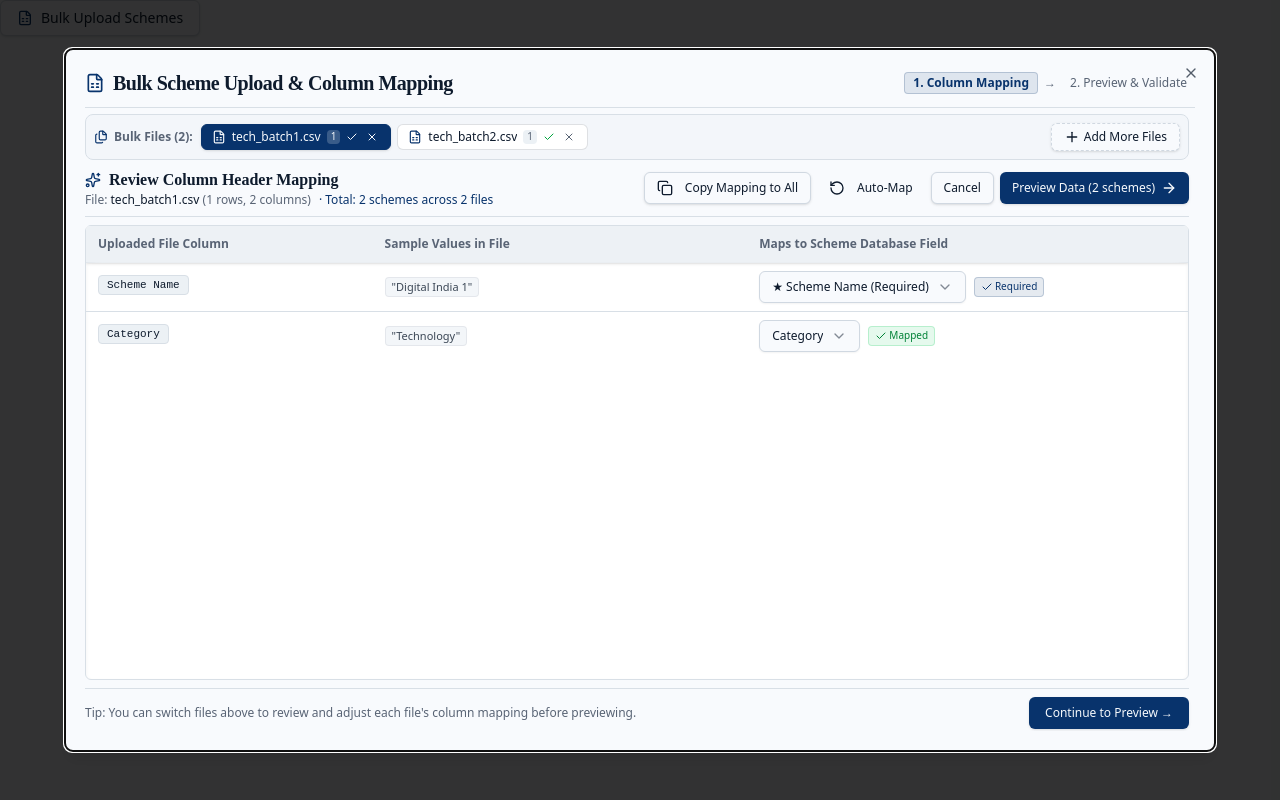
Test: Multiple Bulk Data Upload Tests › imports all schemes across multiple files and displays per-file results breakdown
Earlier steps of the test are not shown.
Later steps or results of the test are not shown.
Click the button "Preview Data (2 schemes)": (1094, 188) left=1000, top=172, right=1189, bottom=204
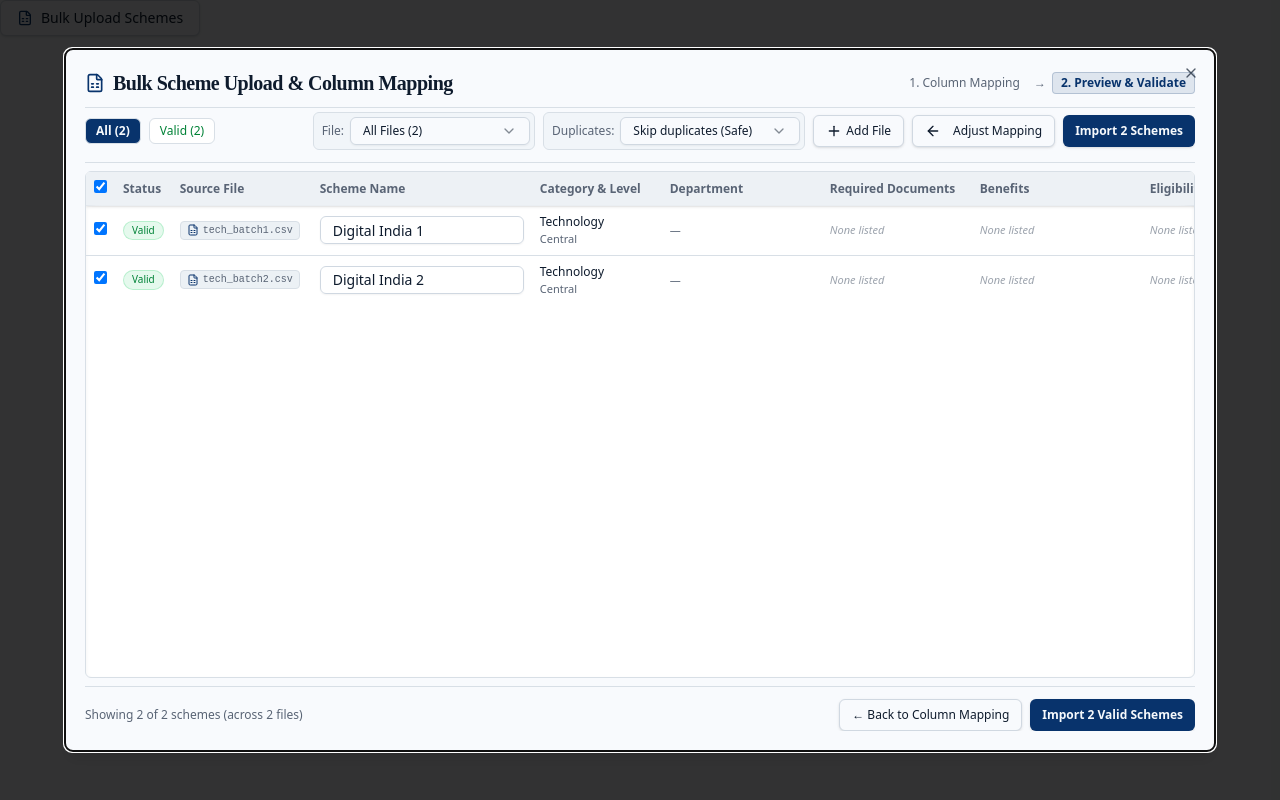
Expected: the button "Import 2 Schemes" is shown
Click the button "Import 2 Schemes": (1129, 131) left=1063, top=115, right=1195, bottom=147
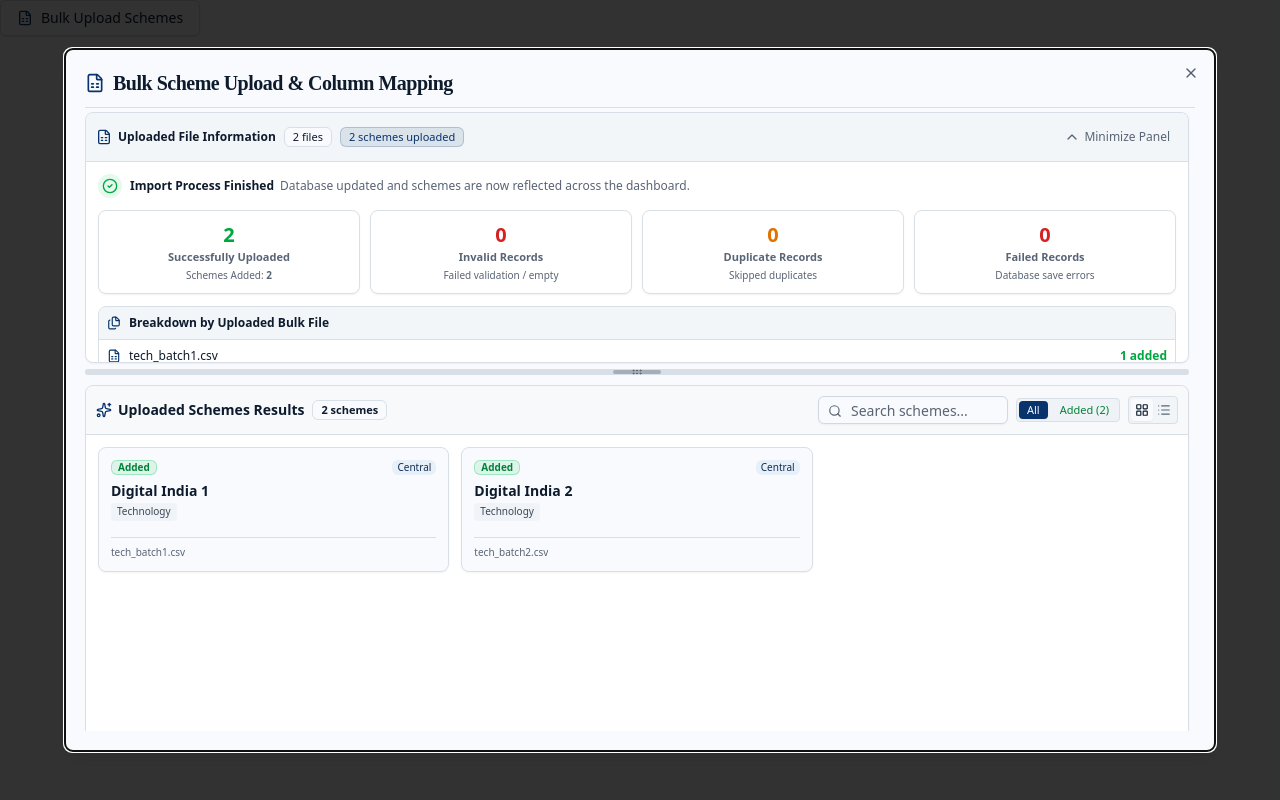
Expected: the text "Import Process Finished" is shown, left=130, top=177, right=274, bottom=194
Expected: the text "Schemes Added" is shown, left=186, top=268, right=261, bottom=282
Expected: the text "Breakdown by Uploaded Bulk File" is shown, left=129, top=314, right=329, bottom=330
